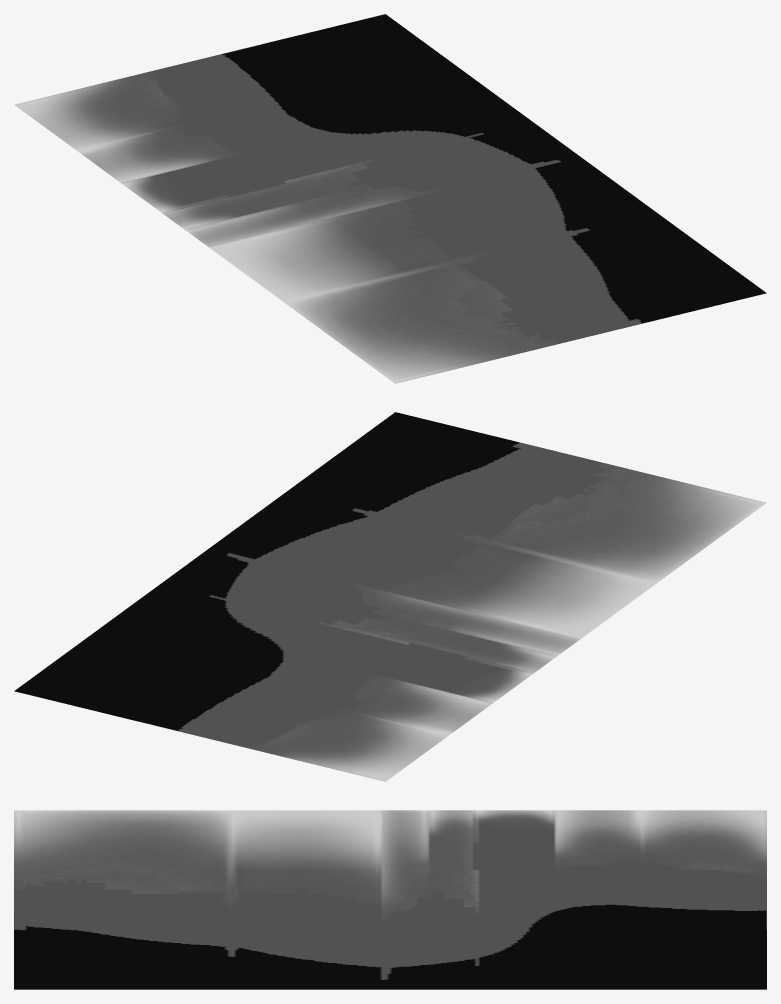
3 renders of one model, top to bottom at view 1: azimuth 30°, elevation 25°; view 2: azimuth 150°, elevation 25°; view 3: azimuth 270°, elevation 25°, orthographic.
Parts seen in each view (by area): view 1: Fx_Plane_5012; view 2: Fx_Plane_5012; view 3: Fx_Plane_5012.
Boxes of the visible parts, left/top/right/bottom form: Fx_Plane_5012: left=14, top=14, right=766, bottom=383; Fx_Plane_5012: left=14, top=412, right=766, bottom=781; Fx_Plane_5012: left=14, top=810, right=766, bottom=989.
Bounding box in the file's own units: 45 × 4.9e-15 × 80.
